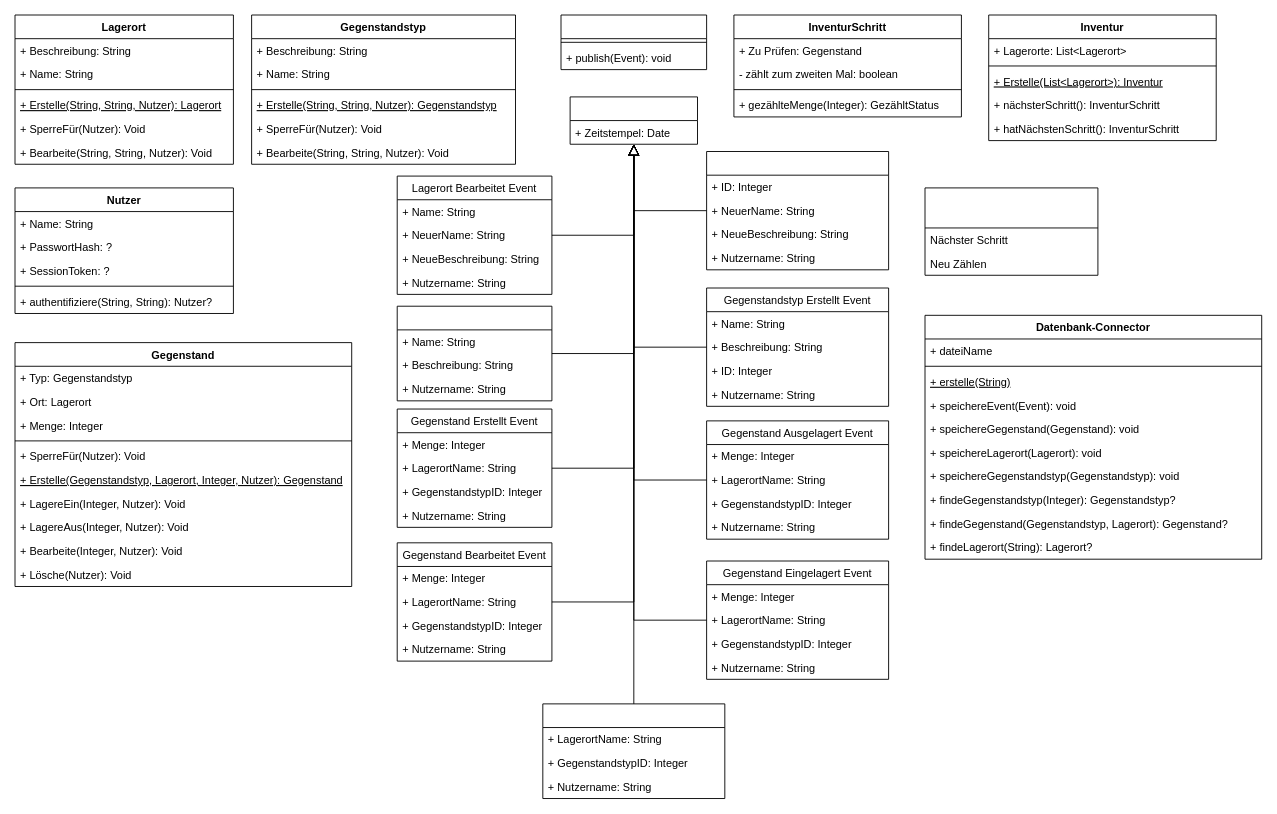
The diagram is 1277 pixels wide and 814 high, and some of its shapes have lost their labels. The shapes that lost their labels are listed below. From the top down, each one's box as (x1, y1, x2, y2) in pixels, then its label:
(560, 14, 707, 70): EventStream
(569, 96, 698, 144): Event
(706, 151, 889, 270): Gegenstandstyp Bearbeitet Event
(924, 187, 1098, 275): «Enumeration» GezähltStatus
(396, 305, 552, 401): Lagerort Erstellt Event
(542, 703, 725, 799): Gegenstand Gelöscht Event
